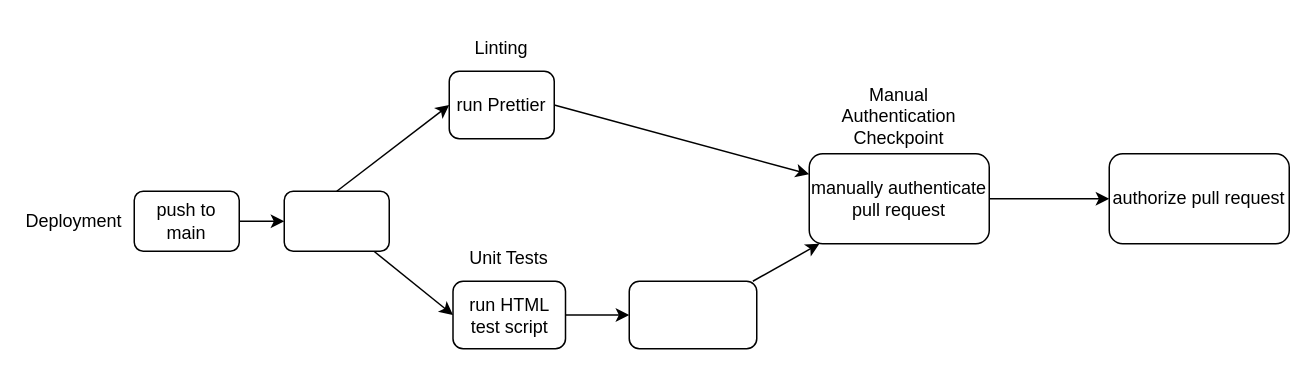
The diagram is 1316 pixels wide and 375 high, and some of its shapes have lost their labels. The centre of each missing label's shape, as x and y in pixels:
"Github Actions" goes at (x=336, y=220).
"validate results" goes at (x=692, y=314).
